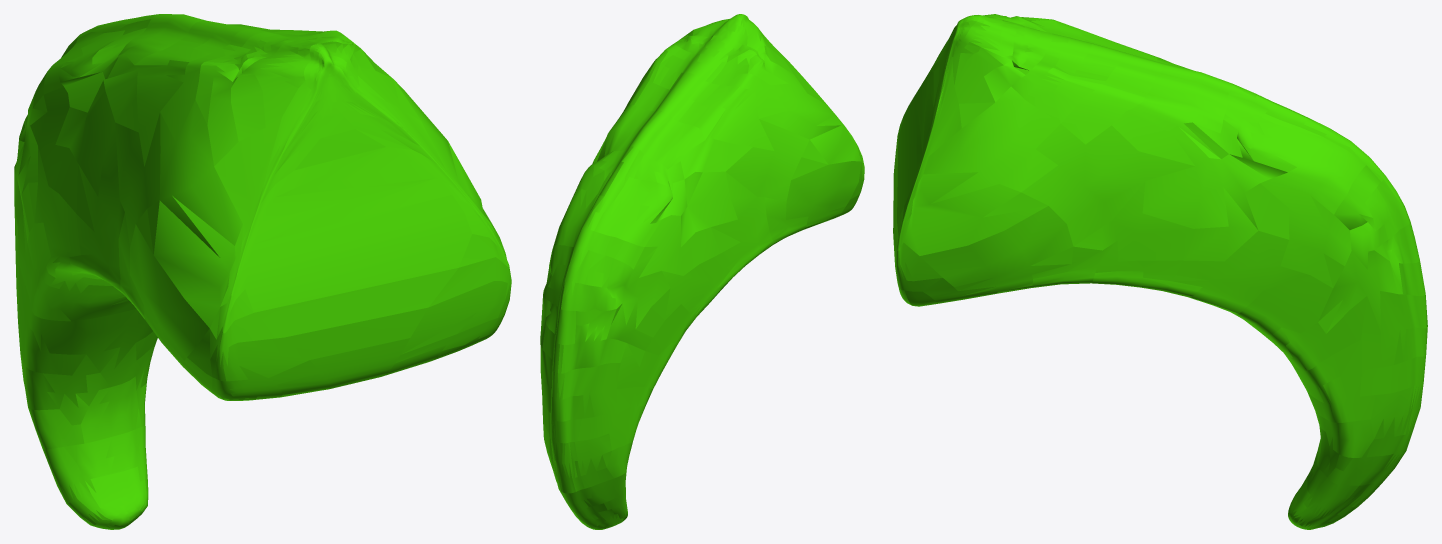
Rendered from Mowhawk-Green.glb.
The picture shows the model from 3 angles, left to right: view 1: azimuth 30°, elevation 25°; view 2: azimuth 150°, elevation 25°; view 3: azimuth 270°, elevation 25°; orthographic projection. The views are drawn at different scales.
Parts seen in each view (by area): view 1: Mowhawk-Green; view 2: Mowhawk-Green; view 3: Mowhawk-Green.
Boxes of the visible parts, bbox=[...] form: Mowhawk-Green: bbox=[14, 14, 511, 529]; Mowhawk-Green: bbox=[540, 14, 864, 529]; Mowhawk-Green: bbox=[893, 14, 1427, 529].
Bounding box in the file's own units: 0.2189 × 0.42 × 0.399.
1 material, 1 textured.
